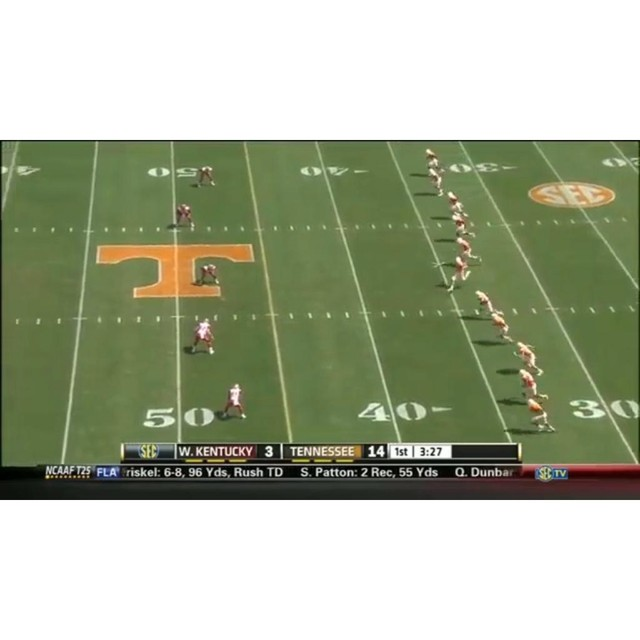american-football-player: (526, 395, 555, 434), (221, 383, 247, 420), (514, 345, 544, 376), (191, 318, 215, 355), (518, 369, 545, 400), (489, 311, 513, 344), (168, 204, 195, 232), (454, 237, 480, 261), (474, 290, 494, 316), (195, 165, 216, 188)
